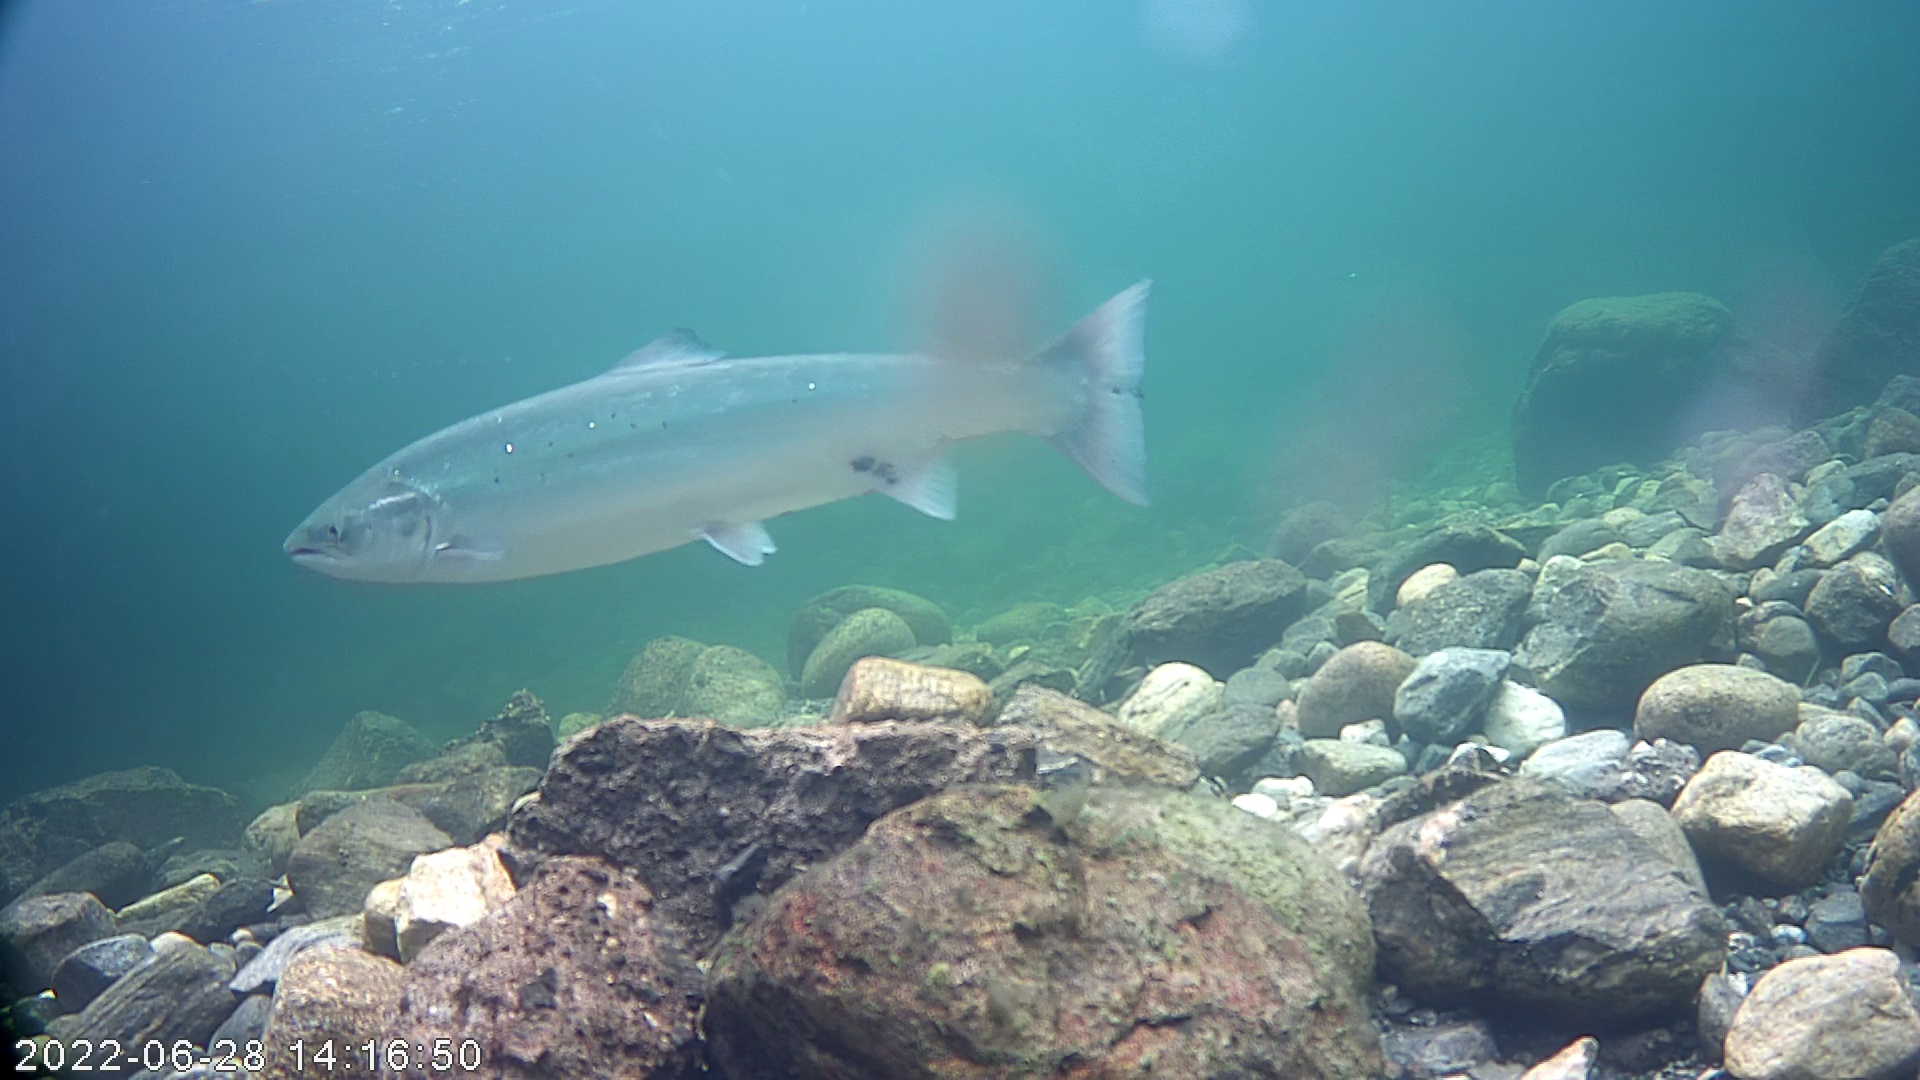salmon: (266, 203, 1170, 629)
